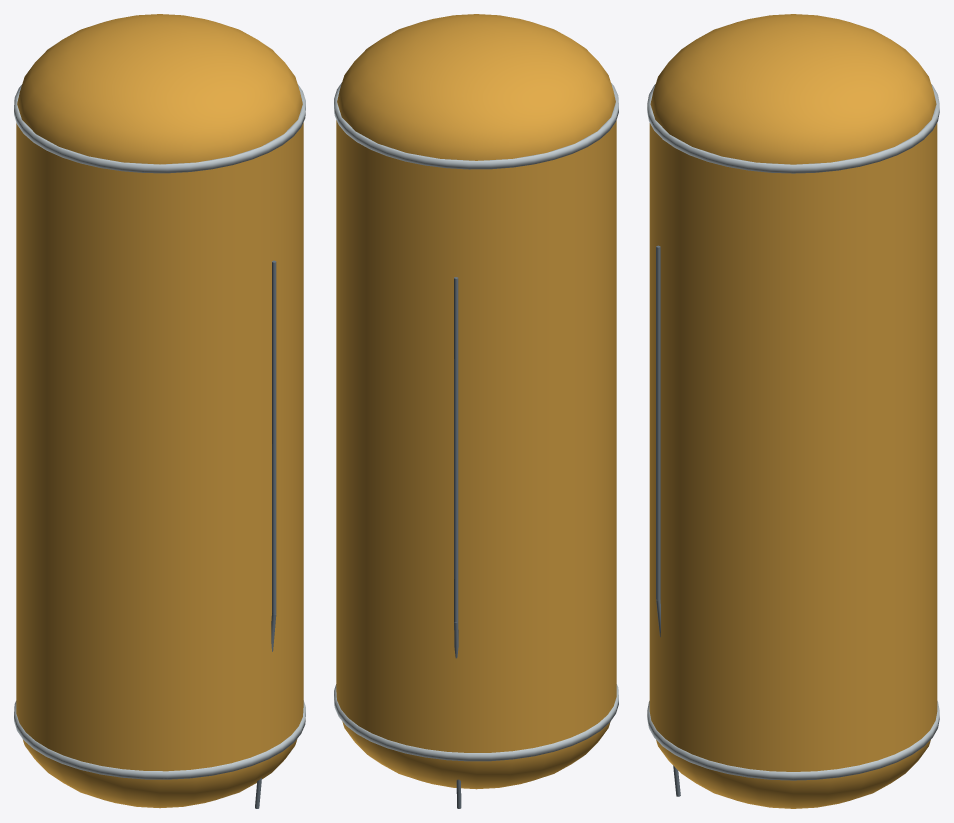
The model's file is titan_stage_1_aerozine50_vessel.glb.
3 views of the same model, side by side, from view 1: azimuth 30°, elevation 25°; view 2: azimuth 150°, elevation 25°; view 3: azimuth 270°, elevation 25° (orthographic). The views are drawn at different scales.
Visible parts, largest first — view 1: titan_stage_1_aerozine50_vessel.mesh_Gold_thermal_insulation, titan_stage_1_aerozine50_vessel.mesh_Satin_aluminum, titan_stage_1_aerozine50_vessel.mesh_Machined_steel; view 2: titan_stage_1_aerozine50_vessel.mesh_Gold_thermal_insulation, titan_stage_1_aerozine50_vessel.mesh_Satin_aluminum, titan_stage_1_aerozine50_vessel.mesh_Machined_steel; view 3: titan_stage_1_aerozine50_vessel.mesh_Gold_thermal_insulation, titan_stage_1_aerozine50_vessel.mesh_Satin_aluminum, titan_stage_1_aerozine50_vessel.mesh_Machined_steel.
Boxes of the visible parts, <box> form: titan_stage_1_aerozine50_vessel.mesh_Gold_thermal_insulation: <box>16,14,303,808</box>; titan_stage_1_aerozine50_vessel.mesh_Satin_aluminum: <box>14,84,305,779</box>; titan_stage_1_aerozine50_vessel.mesh_Machined_steel: <box>255,260,276,808</box>; titan_stage_1_aerozine50_vessel.mesh_Gold_thermal_insulation: <box>336,14,616,789</box>; titan_stage_1_aerozine50_vessel.mesh_Satin_aluminum: <box>334,82,618,761</box>; titan_stage_1_aerozine50_vessel.mesh_Machined_steel: <box>454,277,461,808</box>; titan_stage_1_aerozine50_vessel.mesh_Gold_thermal_insulation: <box>649,14,937,808</box>; titan_stage_1_aerozine50_vessel.mesh_Satin_aluminum: <box>647,84,939,780</box>; titan_stage_1_aerozine50_vessel.mesh_Machined_steel: <box>656,245,680,796</box>.
Bounding box in the file's own units: 2.83 × 8 × 2.83.
